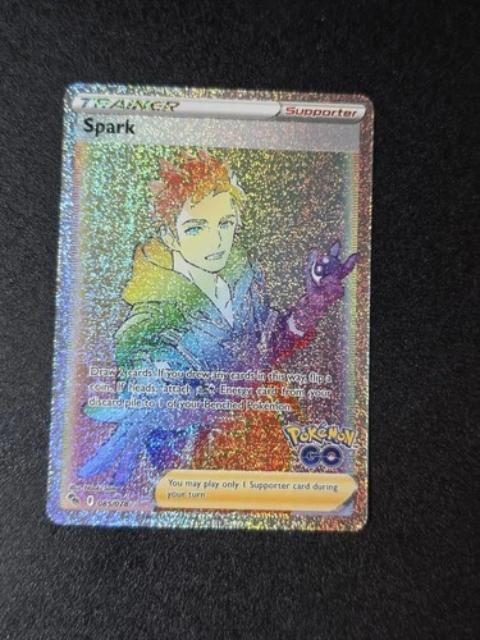Card: (41, 77, 377, 538)
Name: (78, 114, 140, 140)
